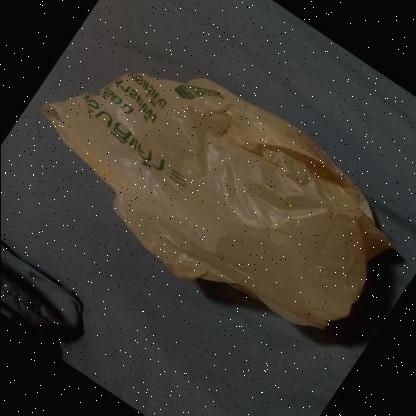Others: (42, 70, 396, 330)
